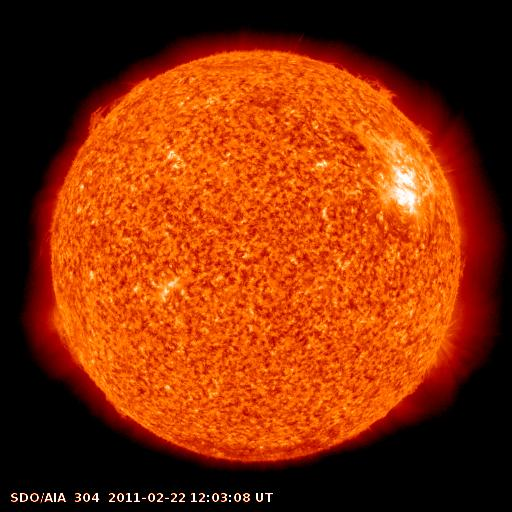prominence: (78, 75, 165, 137), (327, 53, 405, 105), (42, 299, 90, 369)
